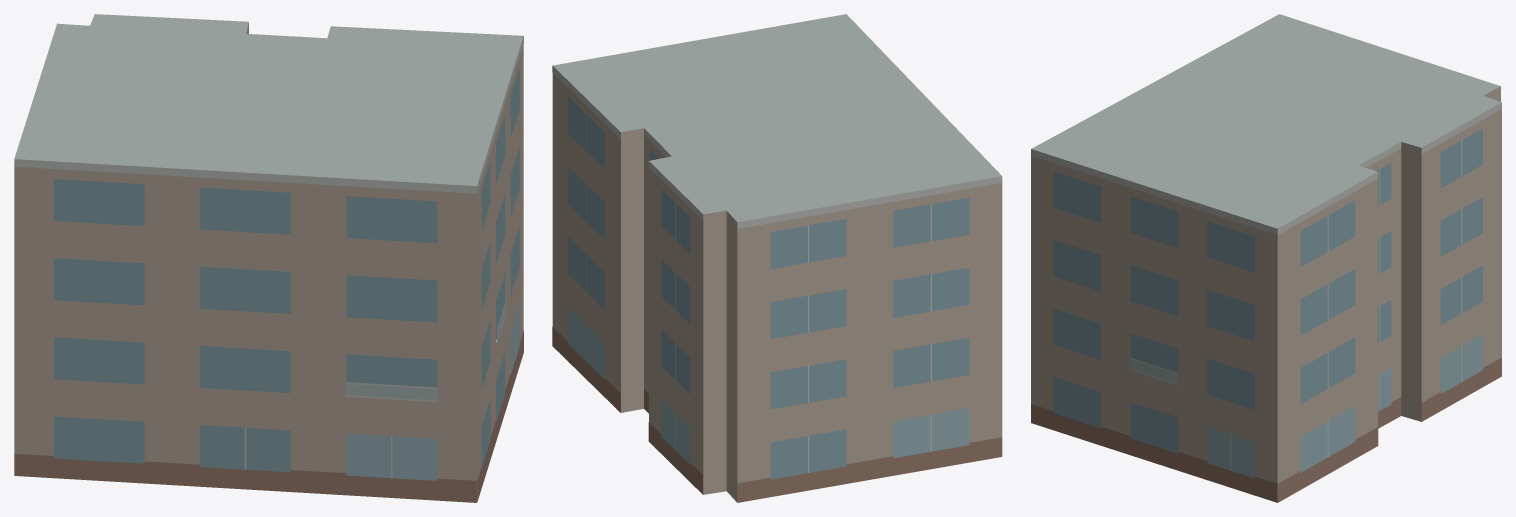
The model's file is survey-upis-32662248.glb.
The picture shows the model from 3 angles, left to right: view 1: azimuth 30°, elevation 25°; view 2: azimuth 150°, elevation 25°; view 3: azimuth 270°, elevation 25°; orthographic projection. The views are drawn at different scales.
Parts seen in each view (by area): view 1: survey-upis-32662248.tmp; view 2: survey-upis-32662248.tmp; view 3: survey-upis-32662248.tmp.
Boxes of the visible parts, <box> form: survey-upis-32662248.tmp: <box>14,14,523,502</box>; survey-upis-32662248.tmp: <box>552,14,1002,502</box>; survey-upis-32662248.tmp: <box>1031,14,1501,502</box>.
Size of the model in its own units: 17.15 by 10.2 by 15.88.
